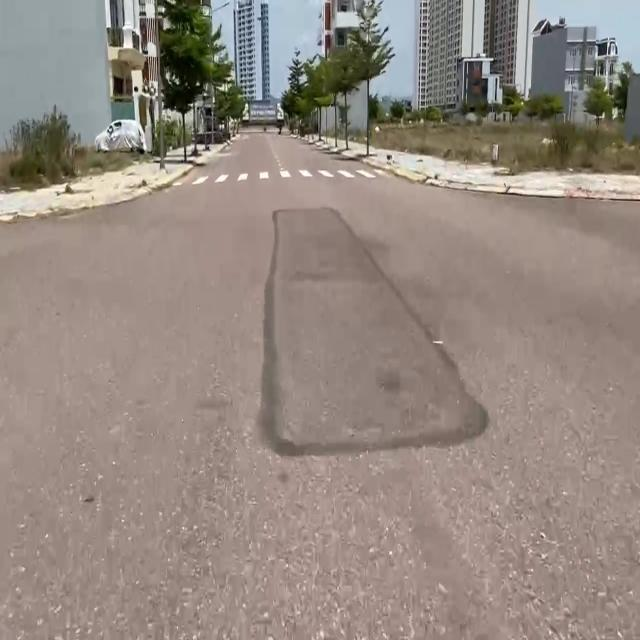walk-crossing: (173, 166, 383, 182)
